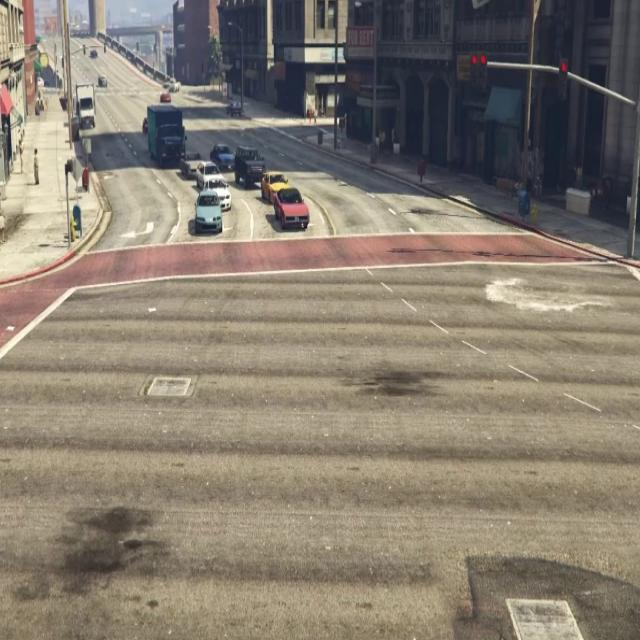Red-Signal: (462, 30, 498, 102), (551, 50, 574, 107), (631, 93, 640, 154)
